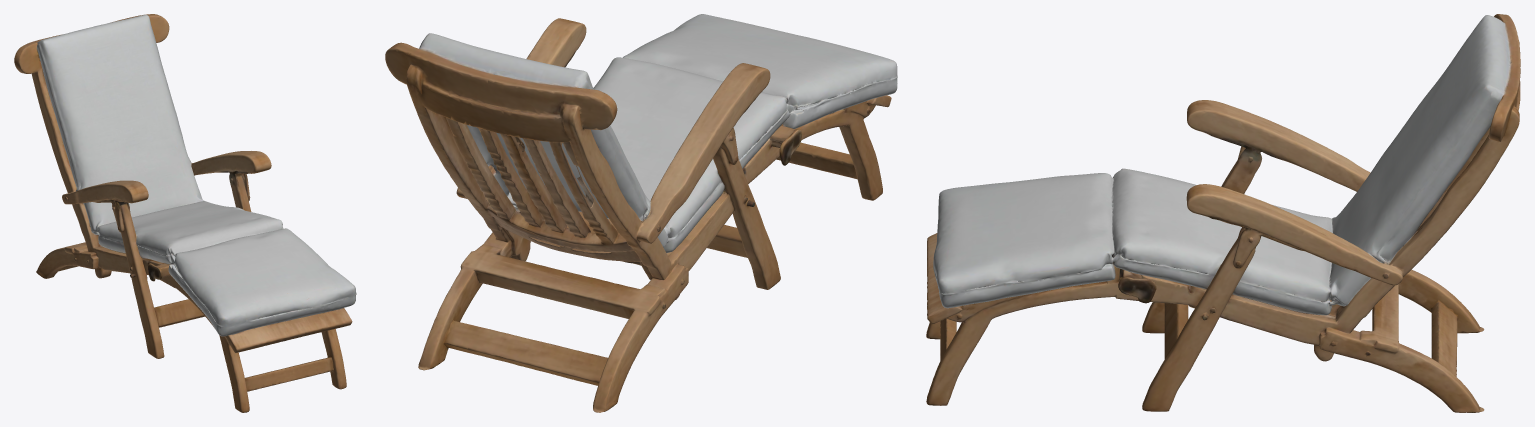
File: garden_wicker.glb
The picture shows the model from 3 angles, left to right: view 1: azimuth 30°, elevation 25°; view 2: azimuth 150°, elevation 25°; view 3: azimuth 270°, elevation 25°; orthographic projection. The views are drawn at different scales.
Visible parts, largest first — view 1: geometry_0; view 2: geometry_0; view 3: geometry_0.
Boxes of the visible parts, x1,y1,x2,y2 form: geometry_0: (14, 14, 356, 412); geometry_0: (385, 14, 897, 412); geometry_0: (926, 14, 1520, 412).
Size of the model in its own units: 0.4177 by 0.5953 by 1.
1 material, 1 textured.
